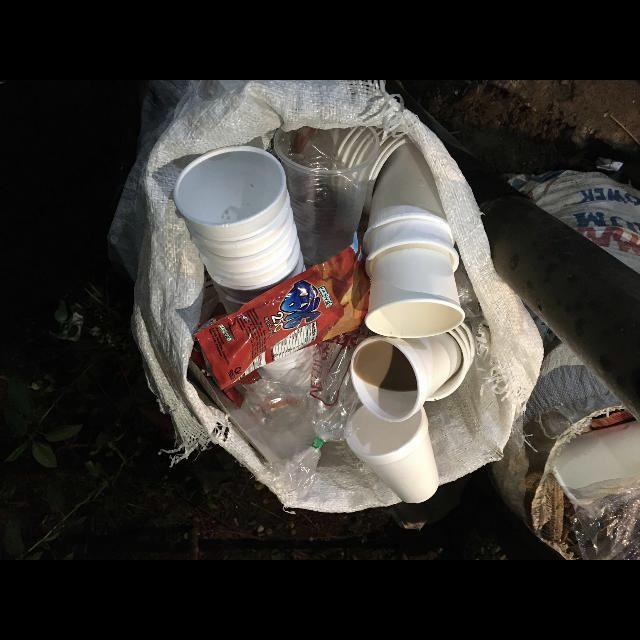food_wrapper: (195, 233, 370, 390)
plastic_container: (273, 126, 377, 269)
